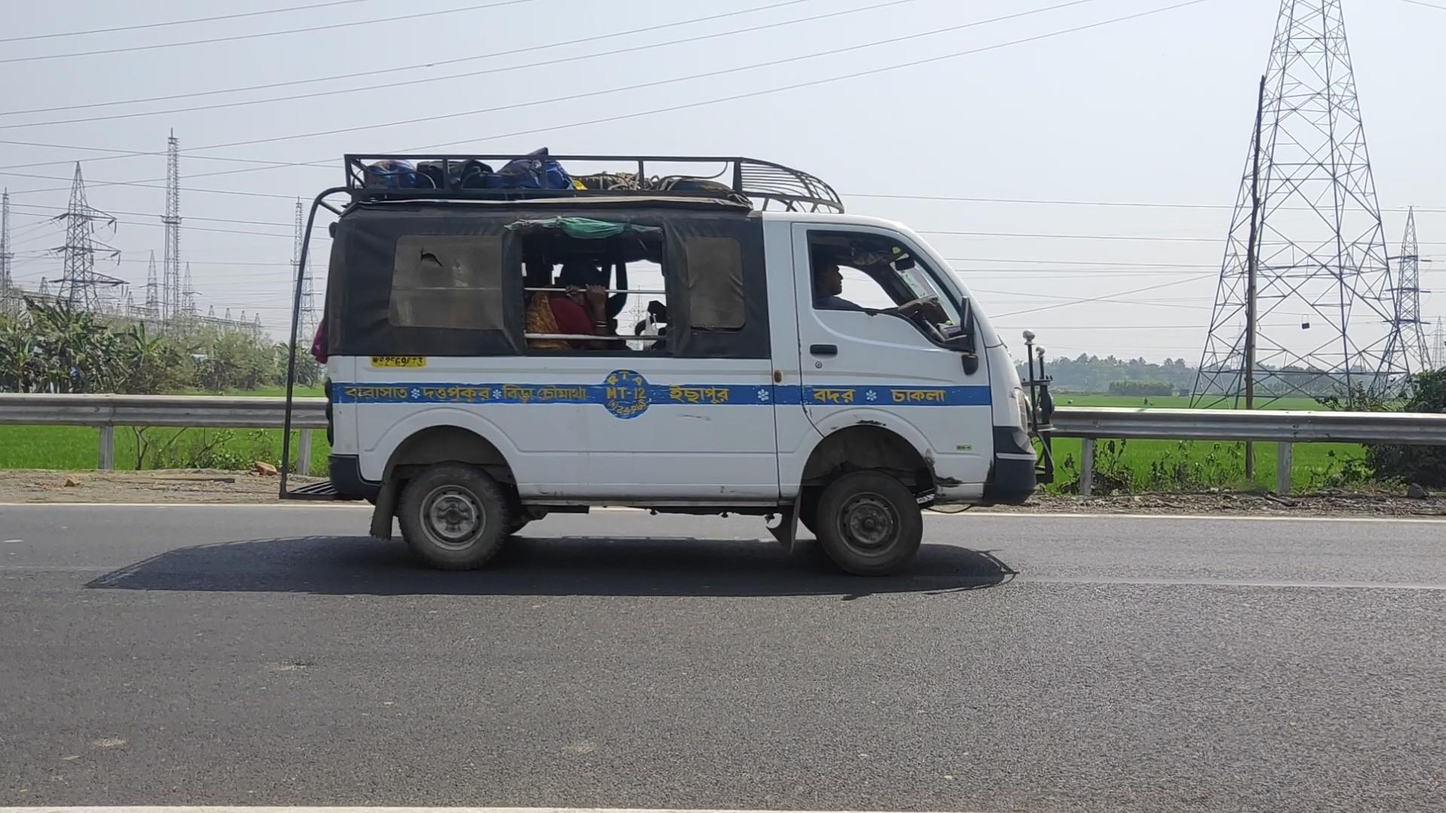van: (279, 154, 1055, 574)
